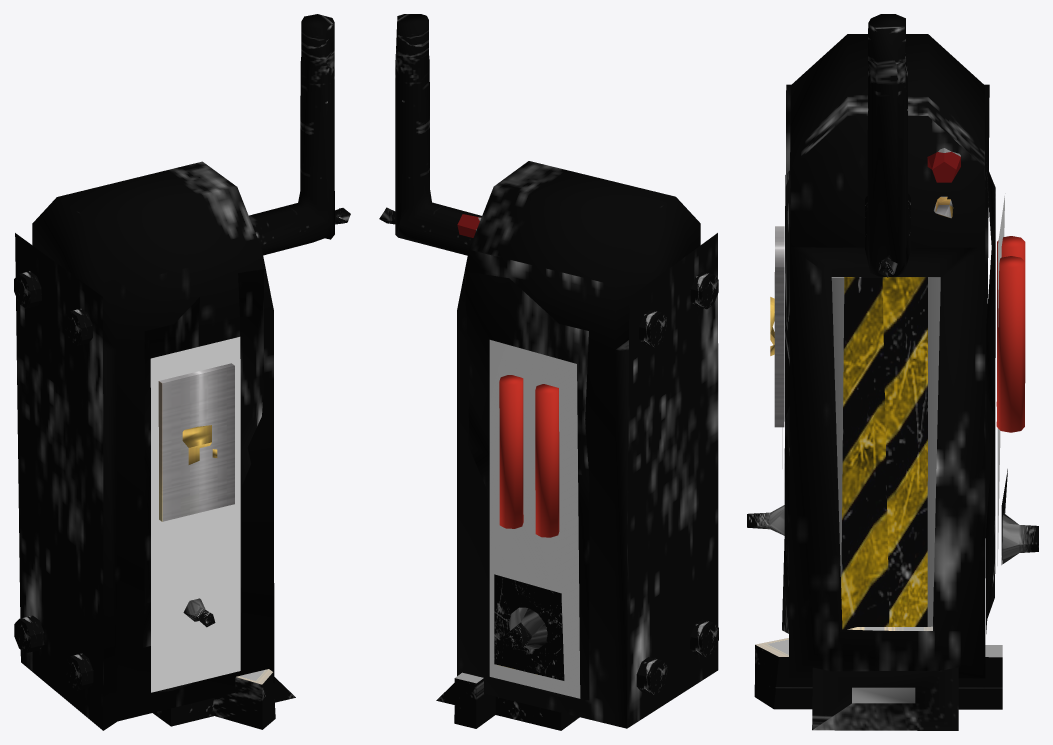
Rendered from AuthenticGhostbusterTrap.fbx.
3 views of the same model, side by side, from view 1: azimuth 30°, elevation 25°; view 2: azimuth 150°, elevation 25°; view 3: azimuth 270°, elevation 25° (orthographic). The views are drawn at different scales.
Parts seen in each view (by area): view 1: Ghostbusters Trap; view 2: Ghostbusters Trap; view 3: Ghostbusters Trap.
Boxes of the visible parts, box(x1,y1,x2,y2) form: Ghostbusters Trap: box(14, 14, 350, 730); Ghostbusters Trap: box(379, 14, 718, 730); Ghostbusters Trap: box(747, 14, 1038, 730).
Bounding box in the file's own units: 0.129 × 0.2629 × 0.094.
